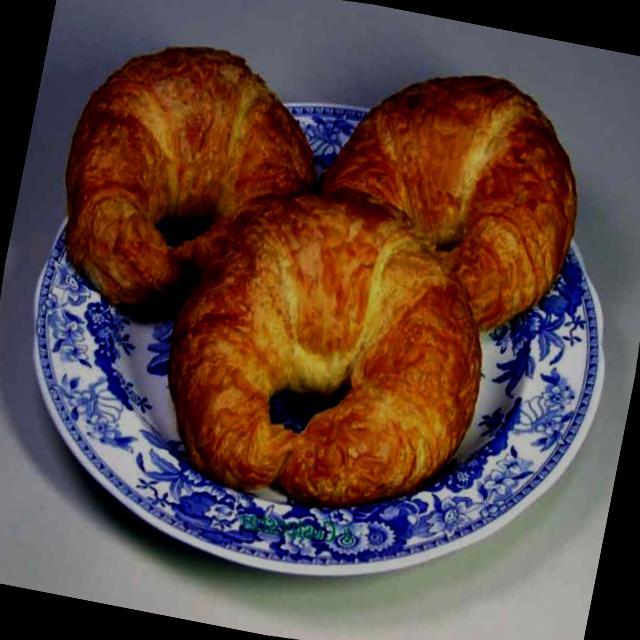Croissant: (126, 160, 530, 548)
